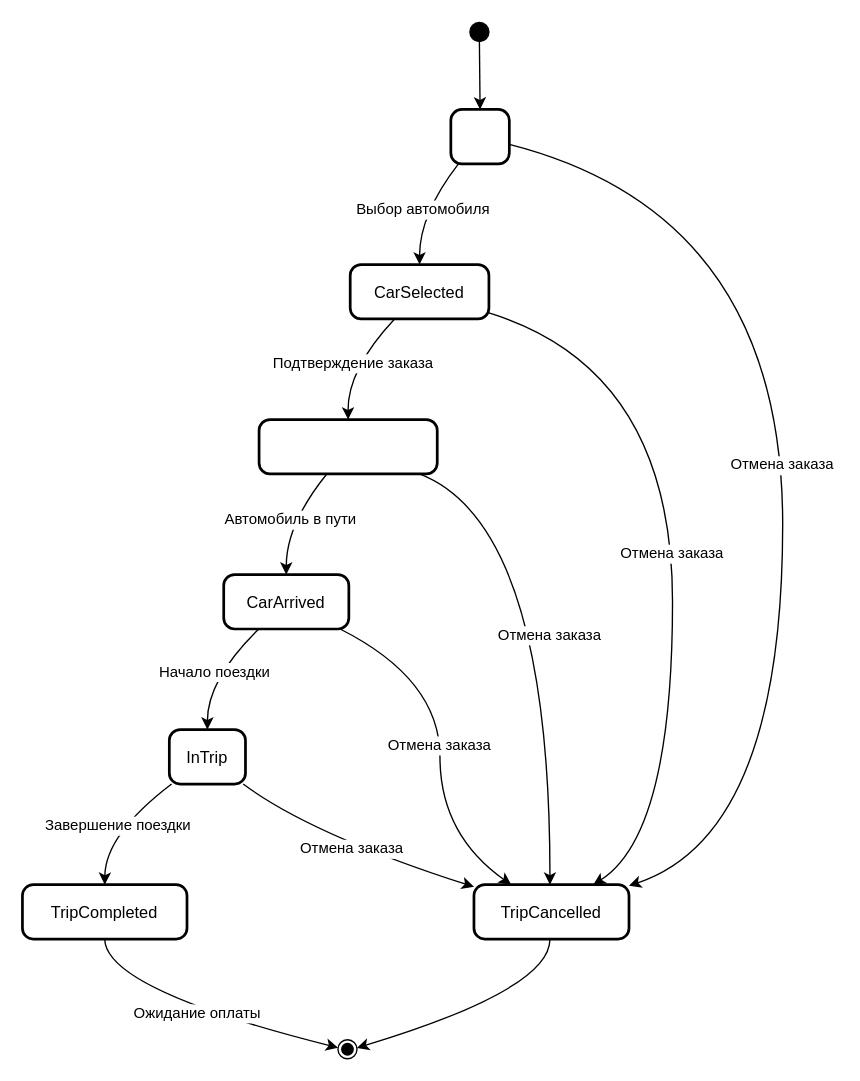
The diagram is 860 pixels wide and 1081 high, and some of its shapes have lost their labels. Here are the shapes that lost their labels. From the top down, the centre of each, then its label:
point (479, 136): Idle
point (347, 446): OrderConfirmed
